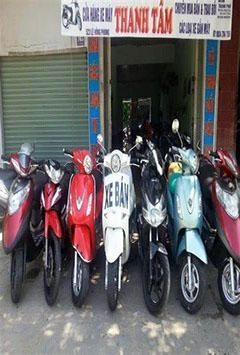motorcycle: (159, 118, 213, 310), (95, 133, 138, 310), (134, 134, 174, 320), (203, 143, 240, 324), (3, 136, 36, 304), (65, 148, 98, 312), (38, 146, 64, 312)
